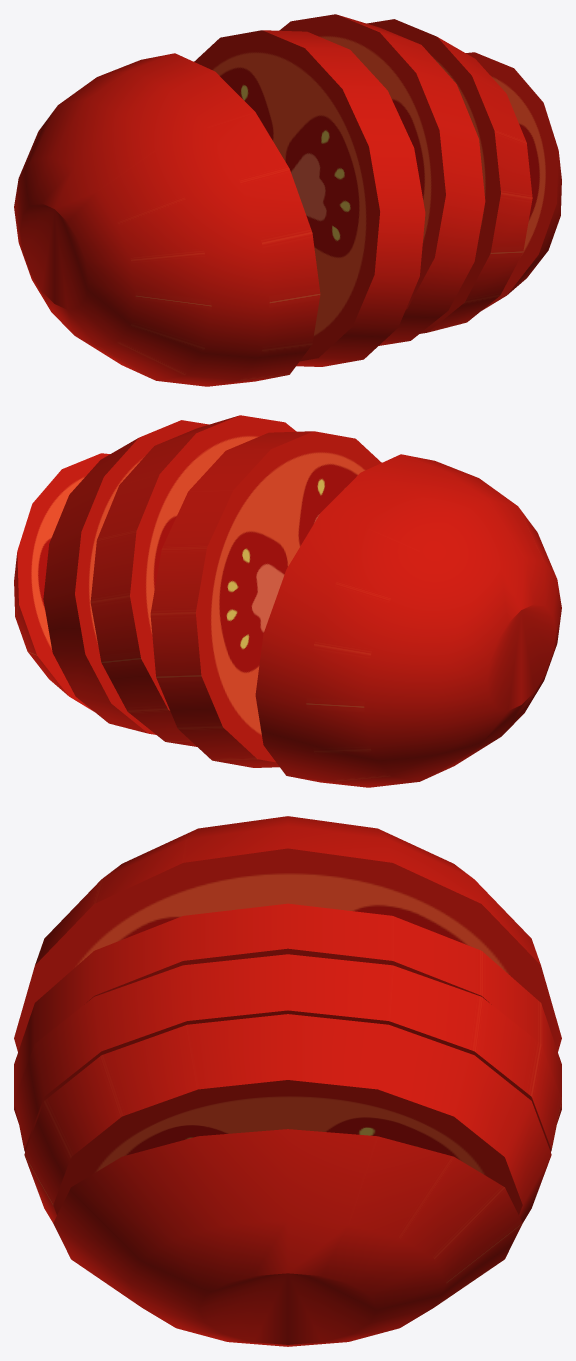
The model's file is Tomato_01_S4.fbx.
The picture shows the model from 3 angles, top to bottom: view 1: azimuth 30°, elevation 25°; view 2: azimuth 150°, elevation 25°; view 3: azimuth 270°, elevation 25°; orthographic projection. The views are drawn at different scales.
Visible parts, largest first — view 1: Tomato_01_S4; view 2: Tomato_01_S4; view 3: Tomato_01_S4.
Boxes of the visible parts, <box> form: Tomato_01_S4: <box>14,14,561,386</box>; Tomato_01_S4: <box>14,415,561,787</box>; Tomato_01_S4: <box>14,816,561,1346</box>.
Size of the model in its own units: 41.17 by 24.26 by 31.43.
